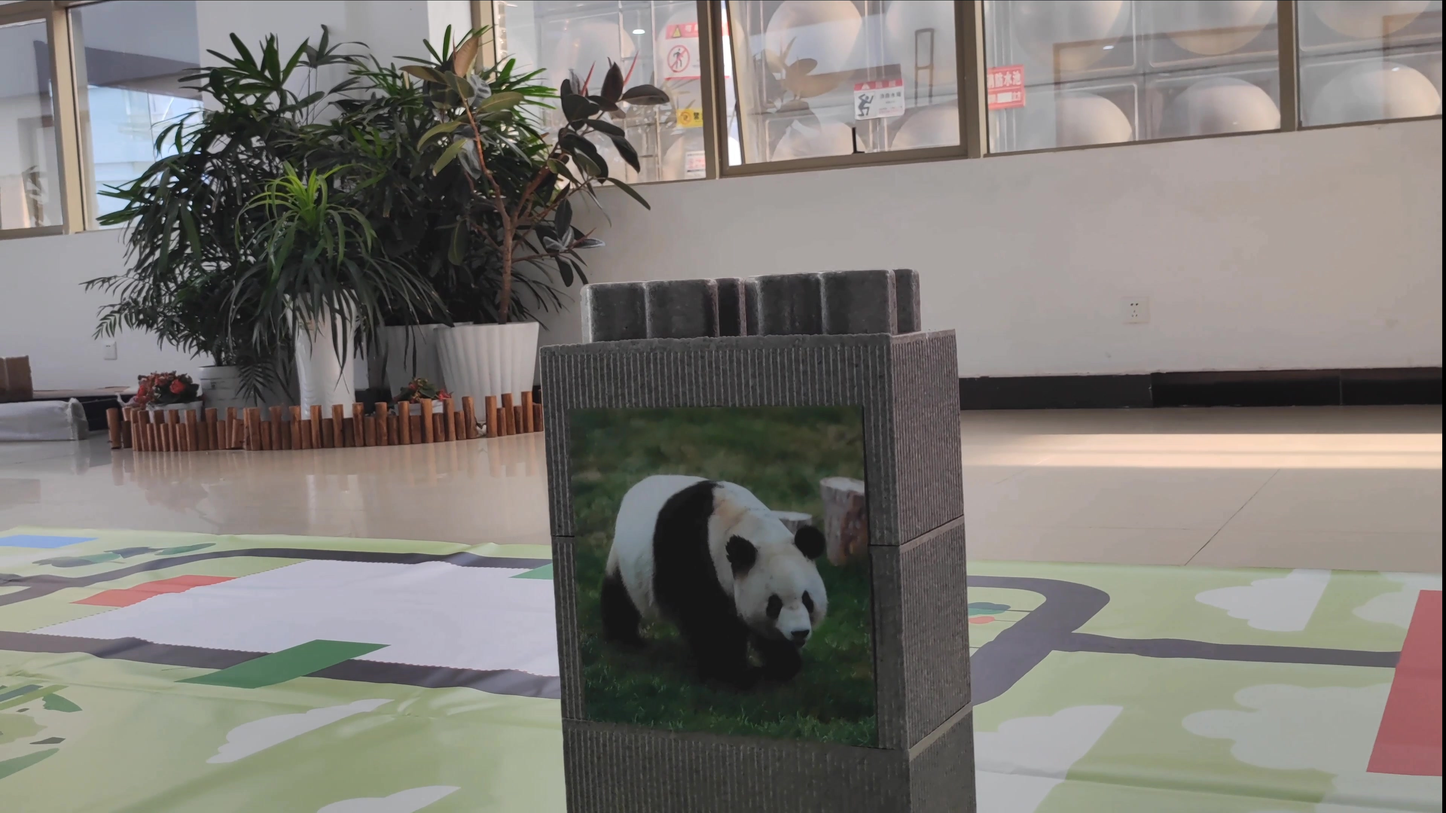panda: (564, 405, 878, 738)
